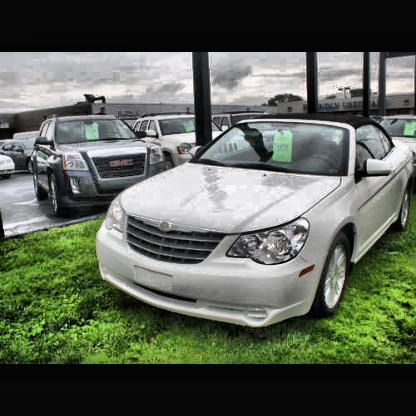Chrysler Sebring Convertible 2010: (96, 111, 416, 330)
